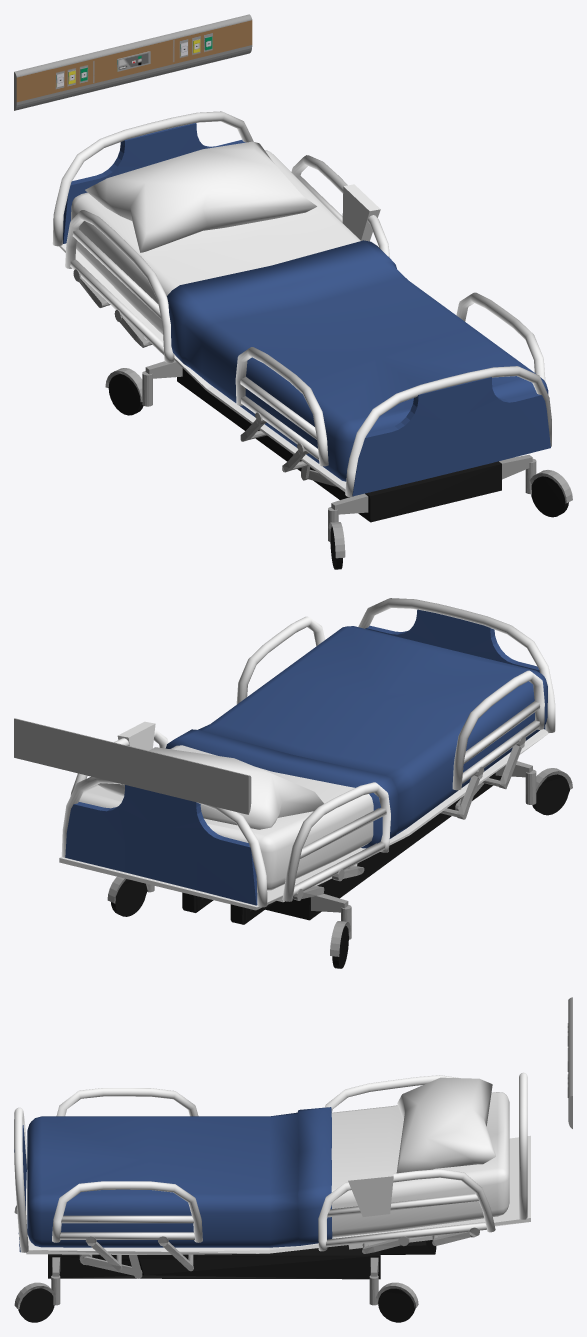
File: hospital_bed_room.dae
The picture shows the model from 3 angles, top to bottom: view 1: azimuth 30°, elevation 25°; view 2: azimuth 150°, elevation 25°; view 3: azimuth 270°, elevation 25°; orthographic projection. The views are drawn at different scales.
Visible parts, largest first — view 1: BedCovering, BedBackBoard, BedBack, Pillow, BedBed, BackGroud, Tire, BedBottomBoard, BedBoard, BedJoint, BedCube, Cube; view 2: BedCovering, BedBackBoard, BedBack, BackGroud, BedBed, Tire, Pillow, BedBoard, BedBottomBoard, BedJoint, HeadSupport, BedCube; view 3: BedCovering, BedBack, BedBed, Pillow, BedBottomBoard, BedBoard, Tire, BedJoint, BedCube, BackGroud, HeadSupport.
Boxes of the visible parts, x1,y1,x2,y2 form: BedCovering: [167, 240, 548, 481]; BedBackBoard: [63, 123, 550, 496]; BedBack: [52, 111, 551, 497]; Pillow: [85, 141, 316, 252]; BedBed: [71, 150, 360, 334]; BackGroud: [14, 14, 252, 110]; Tire: [105, 360, 572, 569]; BedBottomBoard: [177, 368, 501, 522]; BedBoard: [59, 243, 346, 492]; BedJoint: [73, 269, 337, 487]; BedCube: [342, 184, 380, 241]; Cube: [56, 36, 212, 87]; BedCovering: [165, 626, 547, 848]; BedBackBoard: [65, 609, 545, 905]; BedBack: [61, 598, 555, 907]; BackGroud: [14, 718, 251, 814]; BedBed: [79, 745, 373, 890]; Tire: [107, 761, 572, 968]; Pillow: [97, 747, 323, 829]; BedBoard: [59, 729, 549, 910]; BedBottomBoard: [265, 773, 501, 920]; BedJoint: [292, 736, 525, 900]; HeadSupport: [182, 892, 276, 924]; BedCube: [117, 721, 155, 750]; BedCovering: [27, 1107, 332, 1247]; BedBack: [14, 1072, 527, 1252]; BedBed: [331, 1092, 509, 1237]; Pillow: [396, 1077, 495, 1173]; BedBottomBoard: [48, 1245, 380, 1279]; BedBoard: [26, 1135, 530, 1254]; Tire: [14, 1205, 418, 1322]; BedJoint: [79, 1227, 479, 1278]; BedCube: [348, 1171, 393, 1216]; BackGroud: [568, 997, 572, 1128]; HeadSupport: [380, 1240, 436, 1254].
Bounding box in the file's own units: 1.01 × 2.38 × 1.09.
